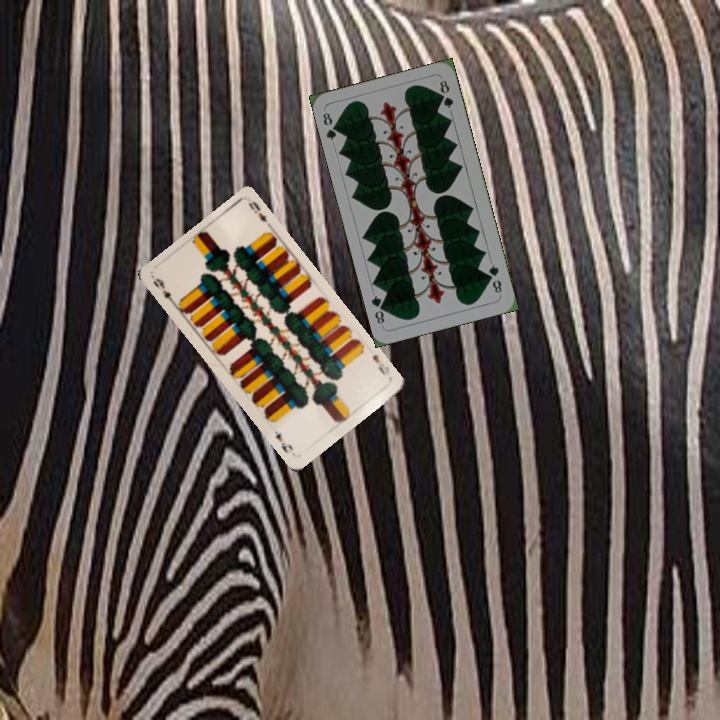E9: (149, 274, 184, 310), (368, 350, 392, 378)
G8: (318, 108, 342, 143), (484, 261, 504, 298)
